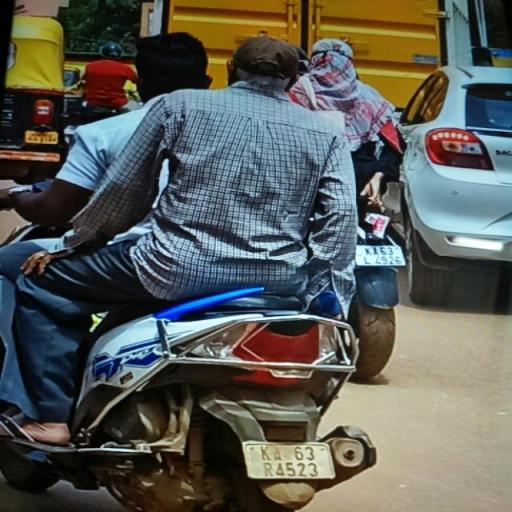bike: (9, 32, 384, 509)
numberplate: (243, 442, 335, 480)
withouthelmet: (138, 34, 202, 93), (233, 38, 306, 84)
